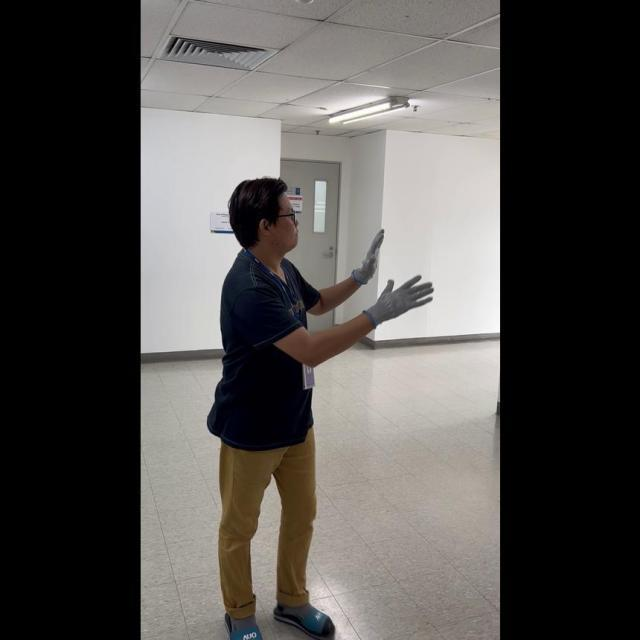gloved_hand: (362, 272, 432, 328), (350, 223, 385, 284)
